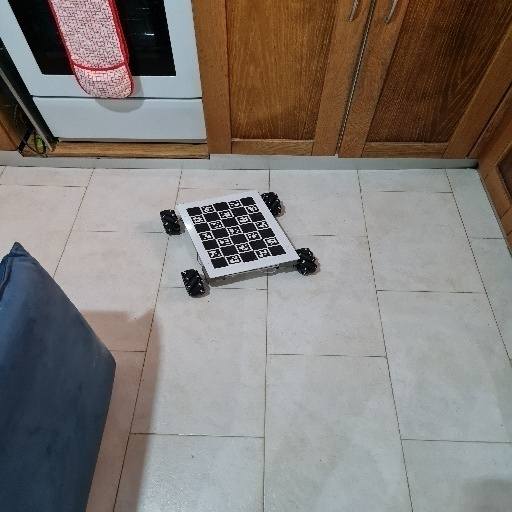Omniwheel: (160, 190, 320, 297)
